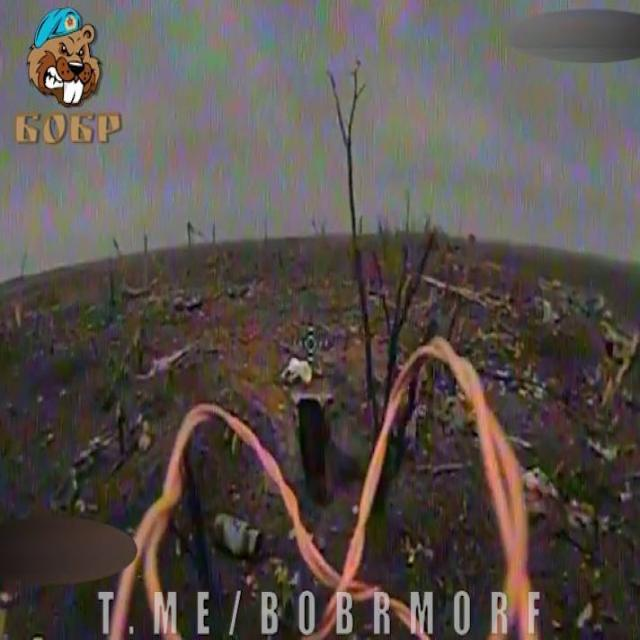fortification: (272, 380, 354, 512)
